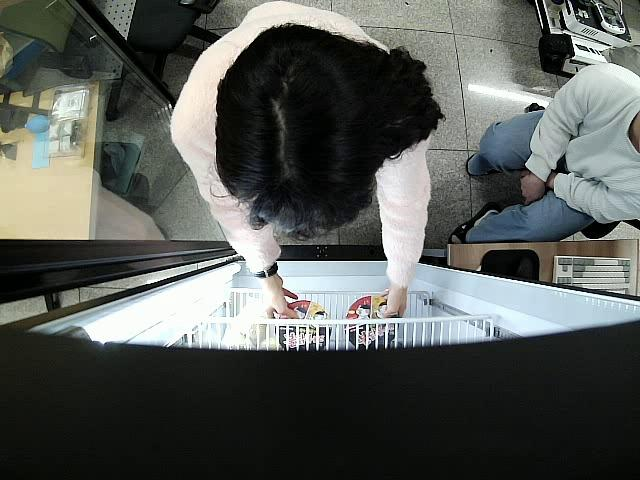00_hand: (260, 274, 299, 322), (381, 285, 411, 321)
07_buldak_L: (277, 299, 333, 353), (346, 296, 398, 351)
